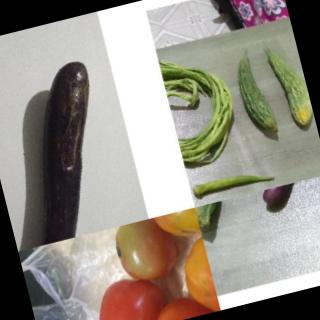Tomat: (51, 207, 220, 320)
